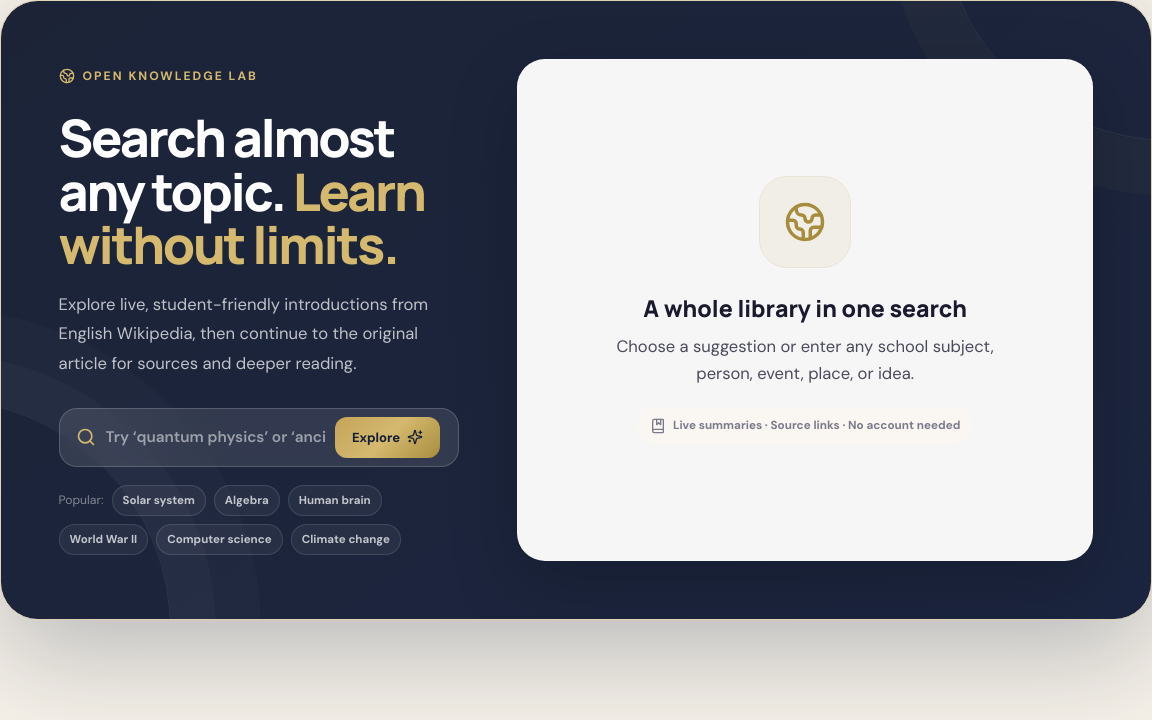
Test: WikipediaExplorer › opens a selected topic and links to its source
Click the button "Algebra" at (247, 500), box [214, 485, 280, 516]
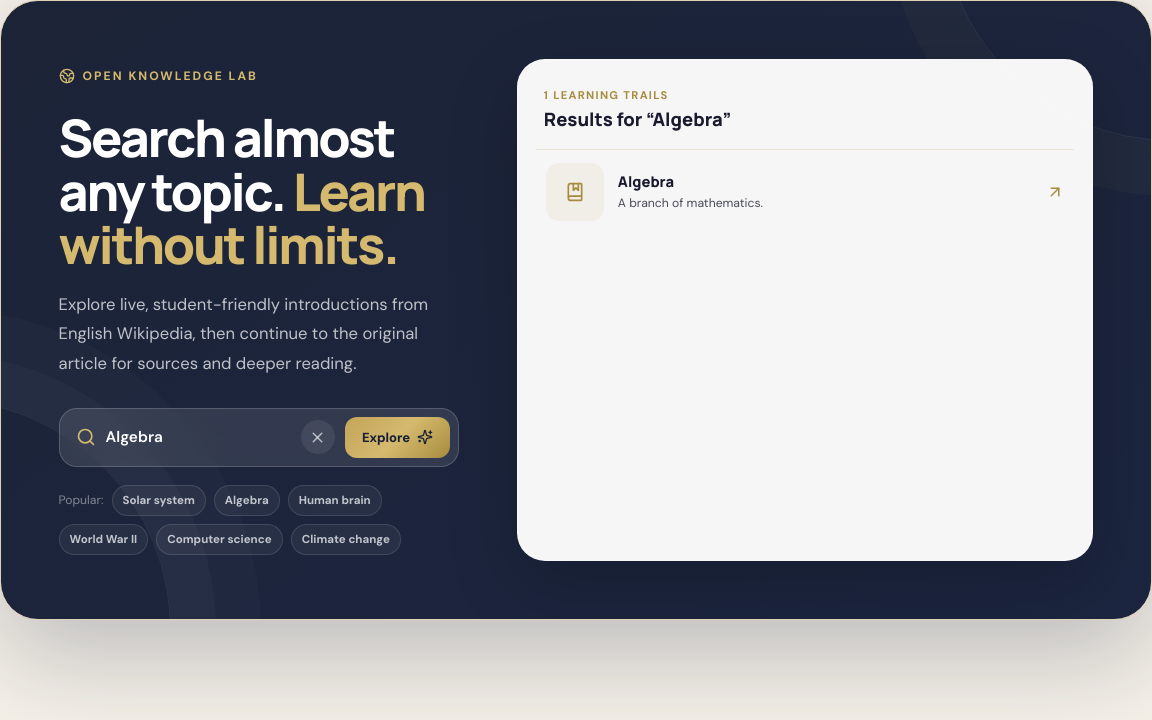
Click the button "Algebra A branch of mathematics." at (575, 192), box [536, 149, 1074, 234]
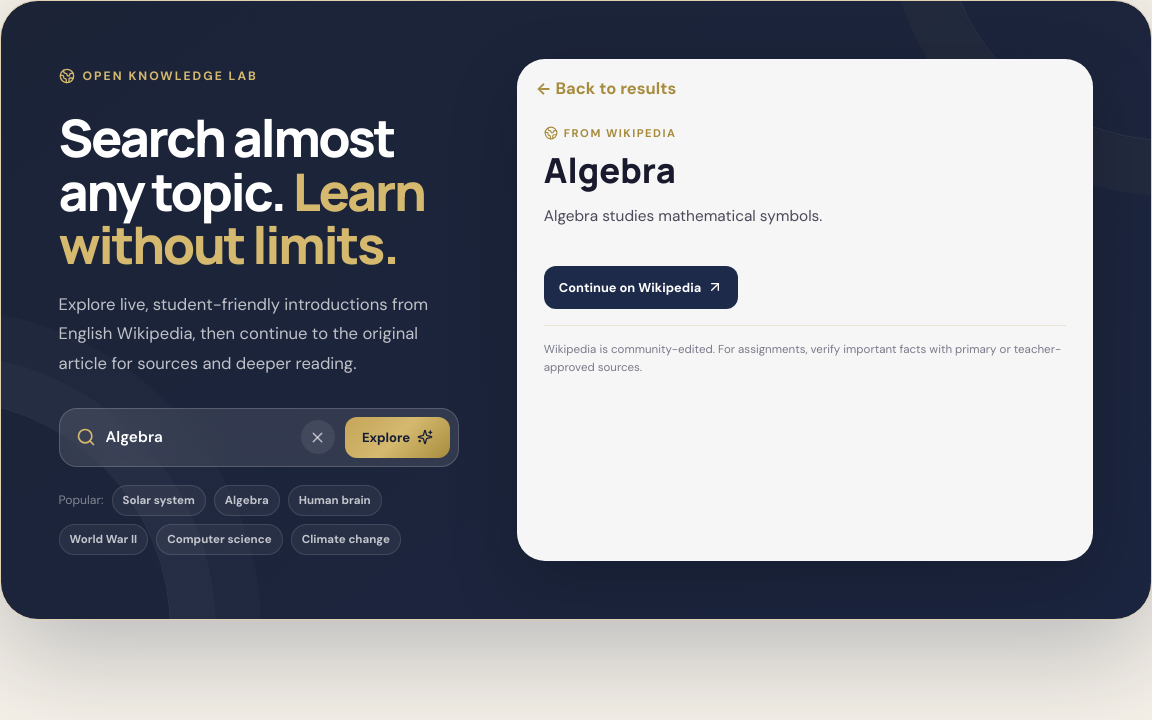
Expected: the text "Algebra studies mathematical symbols." is shown, [544, 206, 822, 226]
